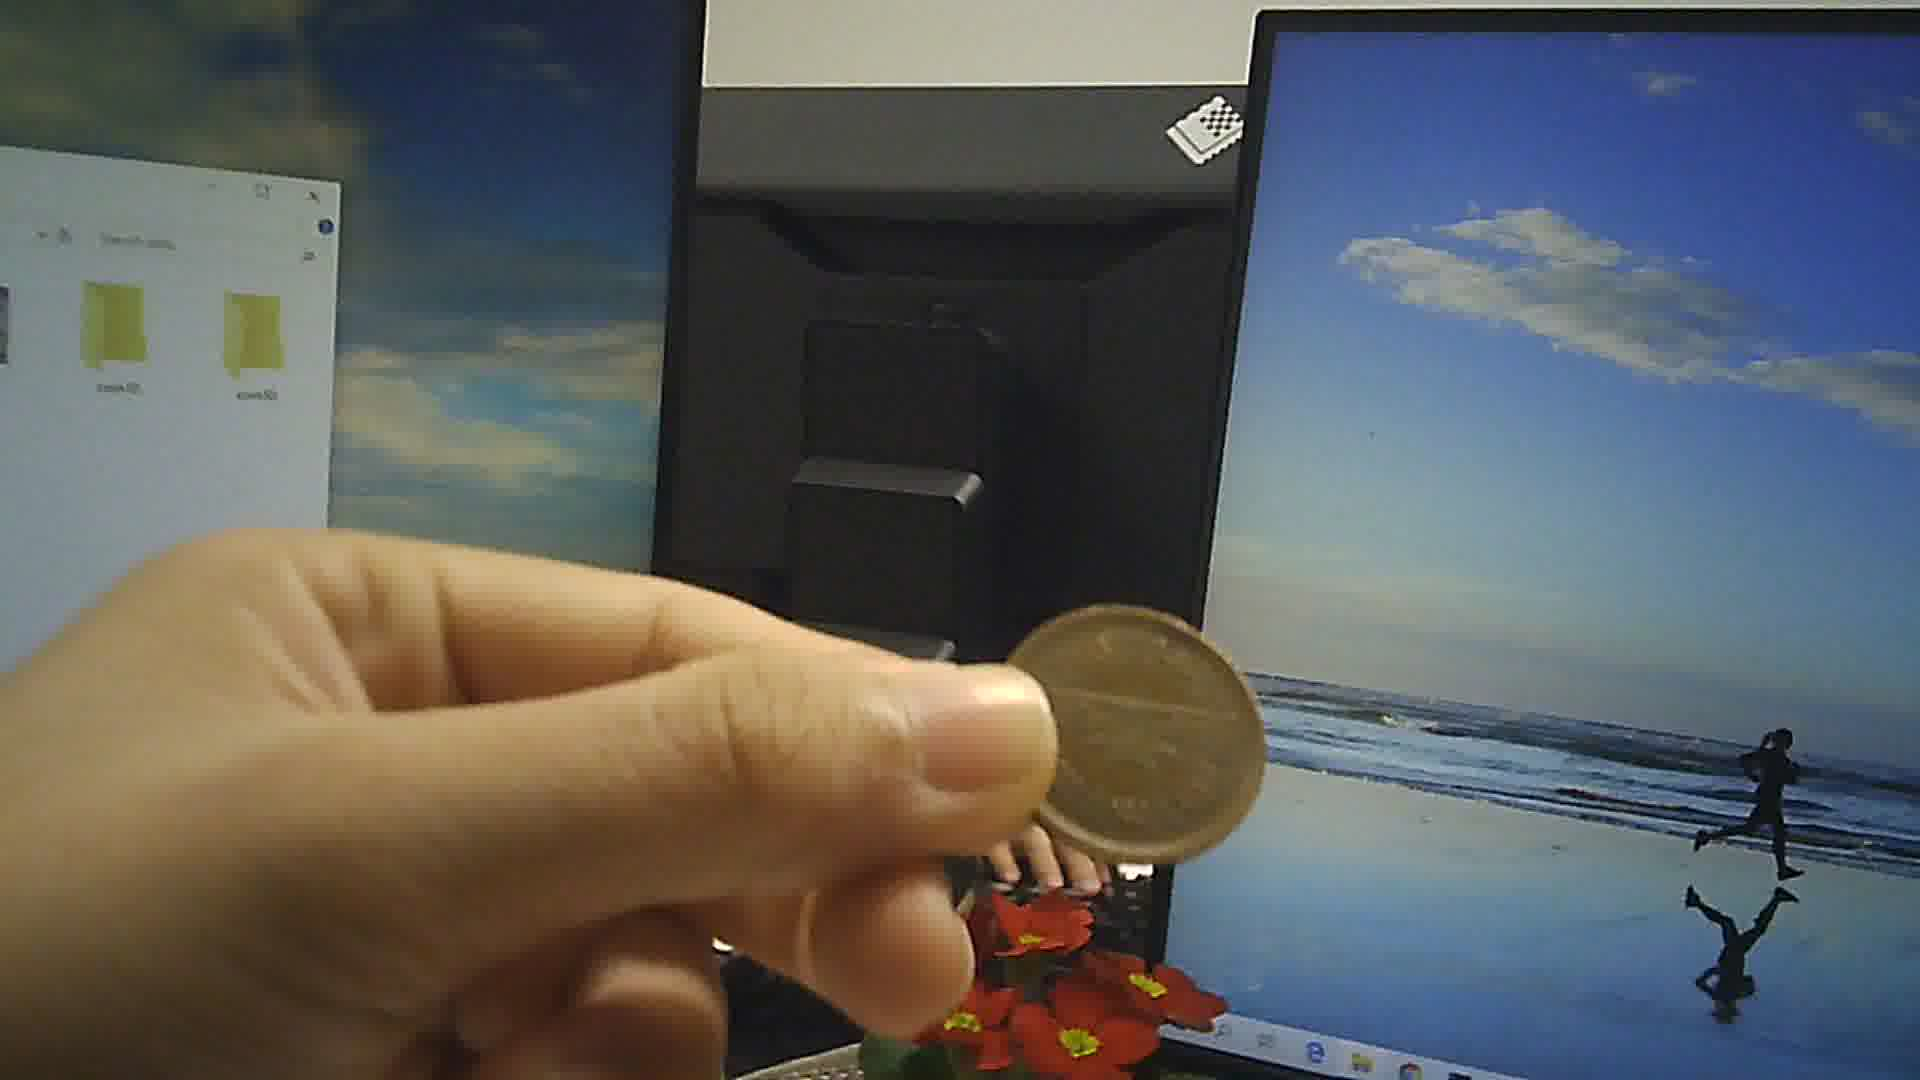10 Yen: (985, 588, 1270, 864)
